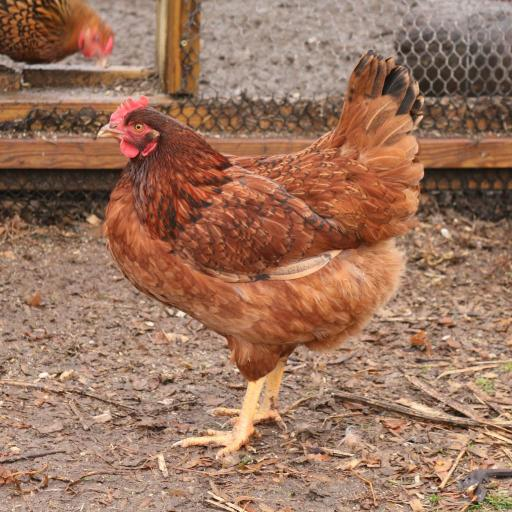healthy: (93, 92, 160, 159)
